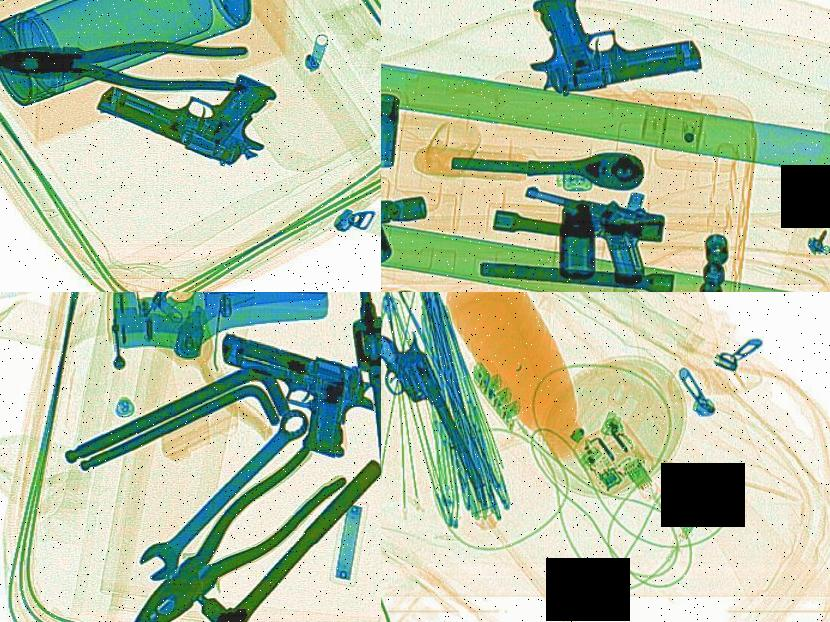Gun: (92, 25, 287, 176), (199, 329, 381, 463), (477, 178, 689, 286), (492, 0, 710, 96), (381, 313, 487, 510)
Pliers: (114, 434, 347, 622), (0, 30, 247, 94)
Wrench: (132, 398, 315, 588)
